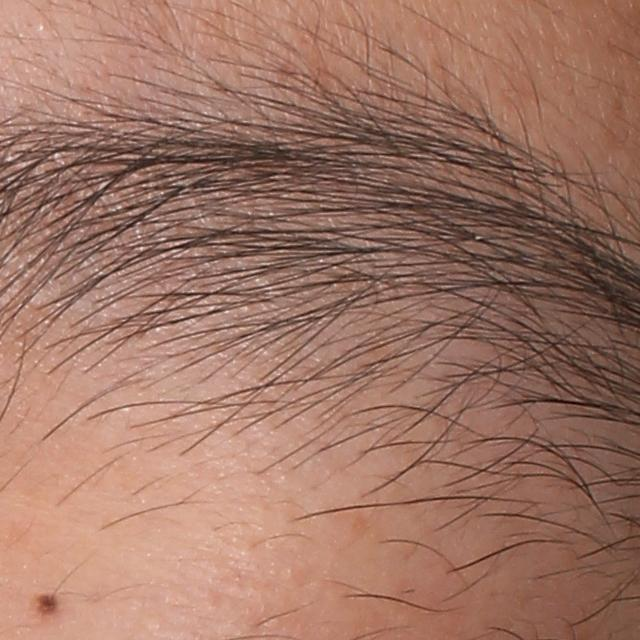nevus: (31, 590, 66, 622)
